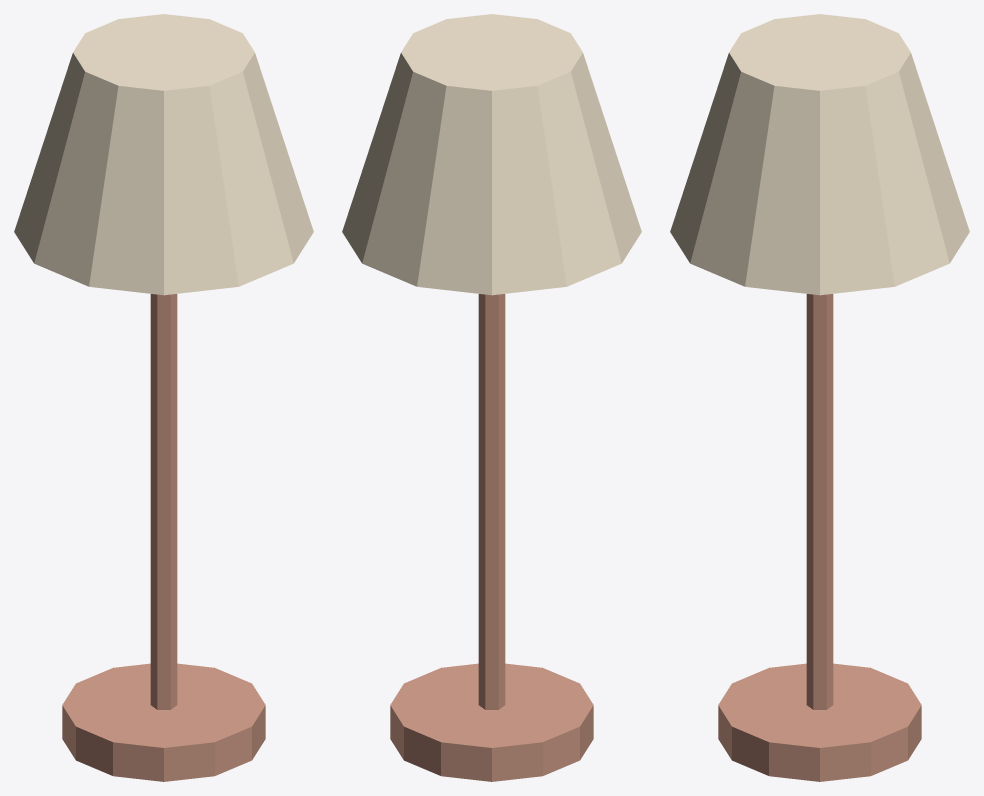
3 renders of one model, left to right at view 1: azimuth 30°, elevation 25°; view 2: azimuth 150°, elevation 25°; view 3: azimuth 270°, elevation 25°, orthographic.
Parts seen in each view (by area): view 1: Lamp shade, Lamp foot, Lamp pole; view 2: Lamp shade, Lamp foot, Lamp pole; view 3: Lamp shade, Lamp foot, Lamp pole.
Part boxes in pixels (left/top/right/bottom): Lamp shade: left=14, top=14, right=313, bottom=295; Lamp foot: left=62, top=663, right=265, bottom=781; Lamp pole: left=150, top=294, right=177, bottom=709; Lamp shade: left=342, top=14, right=641, bottom=295; Lamp foot: left=390, top=663, right=593, bottom=781; Lamp pole: left=478, top=294, right=505, bottom=709; Lamp shade: left=670, top=14, right=969, bottom=295; Lamp foot: left=718, top=663, right=921, bottom=781; Lamp pole: left=806, top=294, right=833, bottom=709.
Size of the model in its own units: 56 by 142 by 56.
